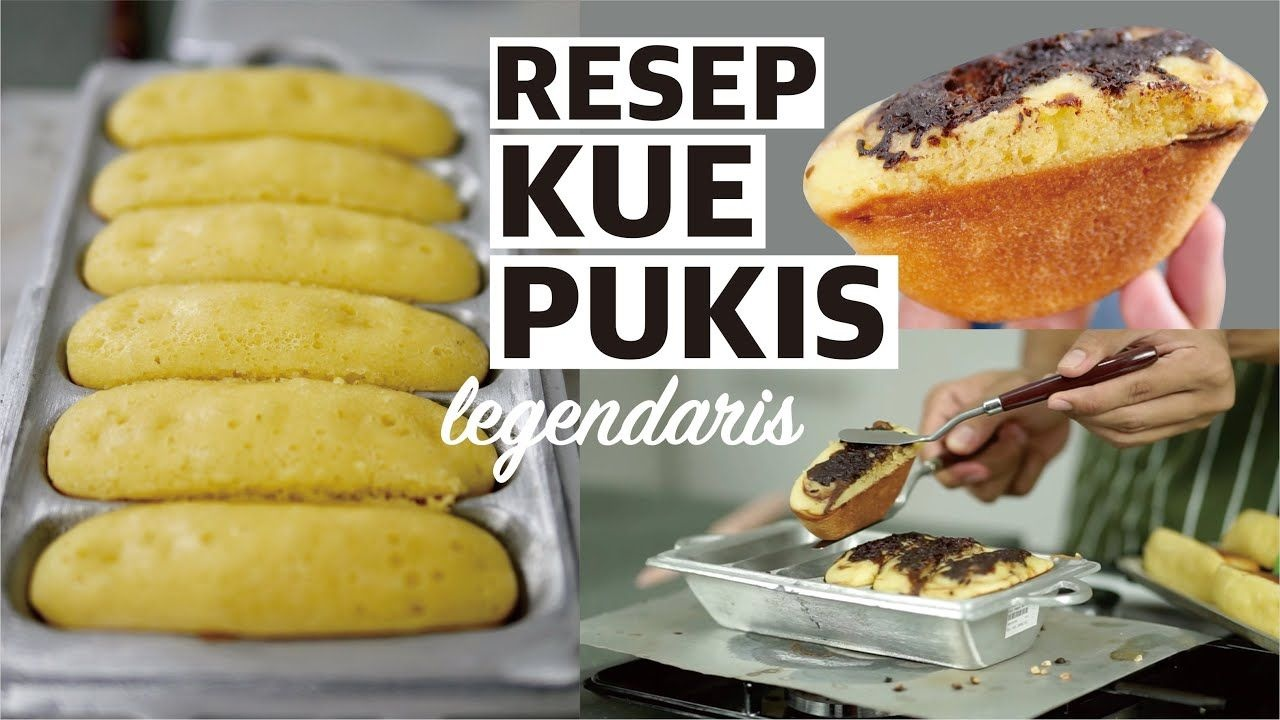pukis: (818, 30, 1253, 309)
